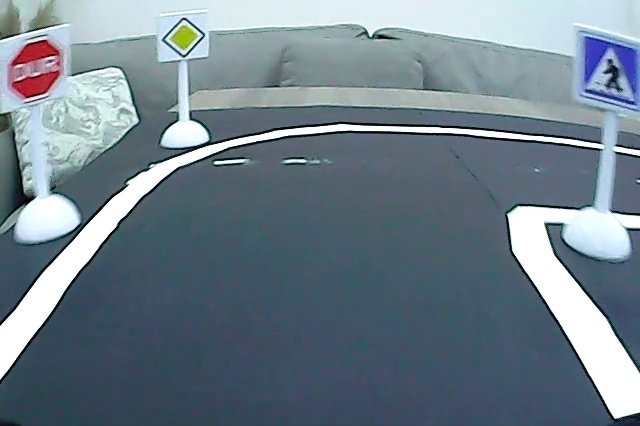pedestrian crossing: (577, 29, 640, 112)
stop sign: (5, 35, 68, 105)
